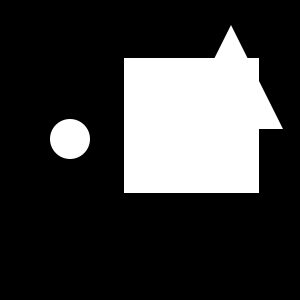circle: (124, 58, 259, 193)
rectangle: (50, 119, 90, 159)
triangle: (179, 25, 283, 129), (186, 94, 225, 133)
